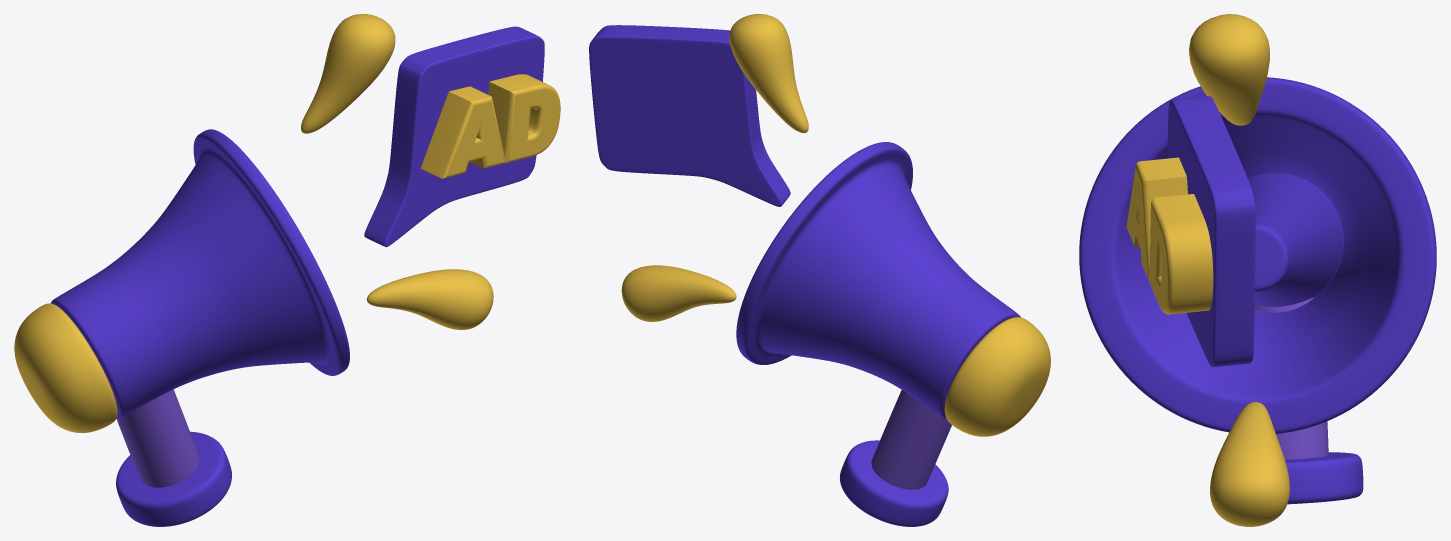
The model's file is advertisement-3d-icon-323743061231.glb.
The picture shows the model from 3 angles, left to right: view 1: azimuth 30°, elevation 25°; view 2: azimuth 150°, elevation 25°; view 3: azimuth 270°, elevation 25°; orthographic projection. The views are drawn at different scales.
Parts seen in each view (by area): view 1: Horn 1, Ad & Splash, Bubble, Horn 2, Handle; view 2: Horn 1, Bubble, Ad & Splash, Horn 2, Handle; view 3: Horn 1, Ad & Splash, Bubble, Handle.
Part boxes in pixels (<box>): Horn 1: <box>50,129,349,526</box>; Ad & Splash: <box>301,14,560,329</box>; Bubble: <box>364,26,544,247</box>; Horn 2: <box>14,303,117,432</box>; Handle: <box>116,389,199,487</box>; Horn 1: <box>736,142,1020,526</box>; Bubble: <box>589,25,790,206</box>; Ad & Splash: <box>621,14,808,321</box>; Horn 2: <box>944,317,1050,436</box>; Handle: <box>871,390,951,489</box>; Horn 1: <box>1079,77,1436,504</box>; Ad & Splash: <box>1126,14,1289,526</box>; Bubble: <box>1167,96,1255,366</box>; Handle: <box>1254,297,1328,459</box>.
Bounding box in the file's own units: 2.18 × 1.98 × 1.06.
